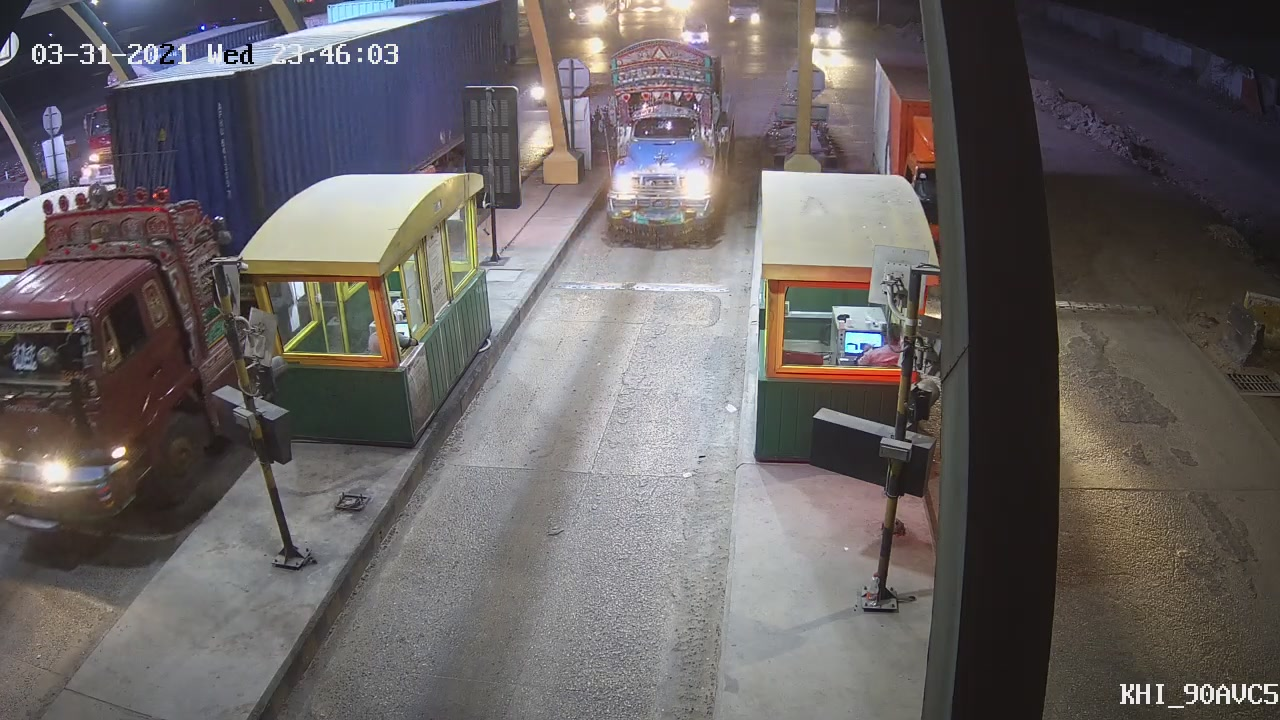F5: (596, 39, 730, 246)
